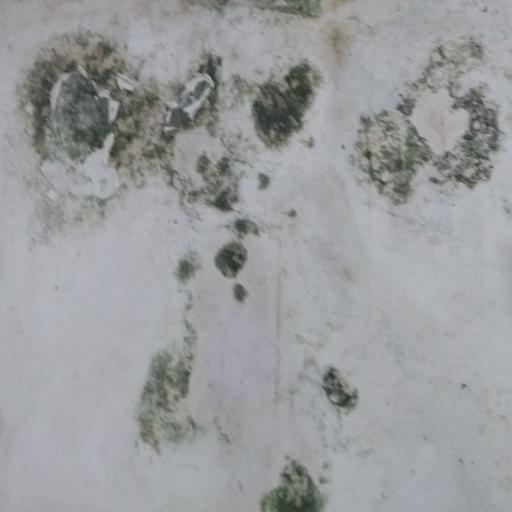algae: (31, 19, 488, 485)
